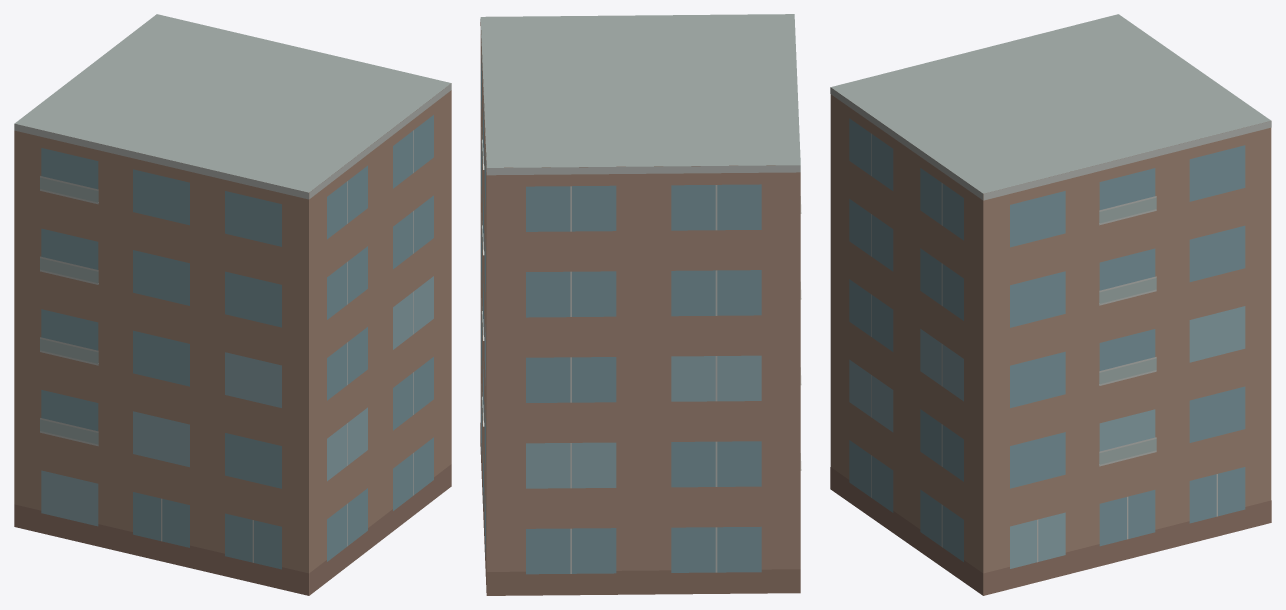
File: survey-upis-32714550.glb
The picture shows the model from 3 angles, left to right: view 1: azimuth 30°, elevation 25°; view 2: azimuth 150°, elevation 25°; view 3: azimuth 270°, elevation 25°; orthographic projection. The views are drawn at different scales.
Visible parts, largest first — view 1: survey-upis-32714550.tmp; view 2: survey-upis-32714550.tmp; view 3: survey-upis-32714550.tmp.
Part boxes in pixels (x1,y1,x2,y2): survey-upis-32714550.tmp: (14,14,451,595); survey-upis-32714550.tmp: (480,14,801,595); survey-upis-32714550.tmp: (830,14,1271,595).
Size of the model in its own units: 13.72 by 14.3 by 14.22.
